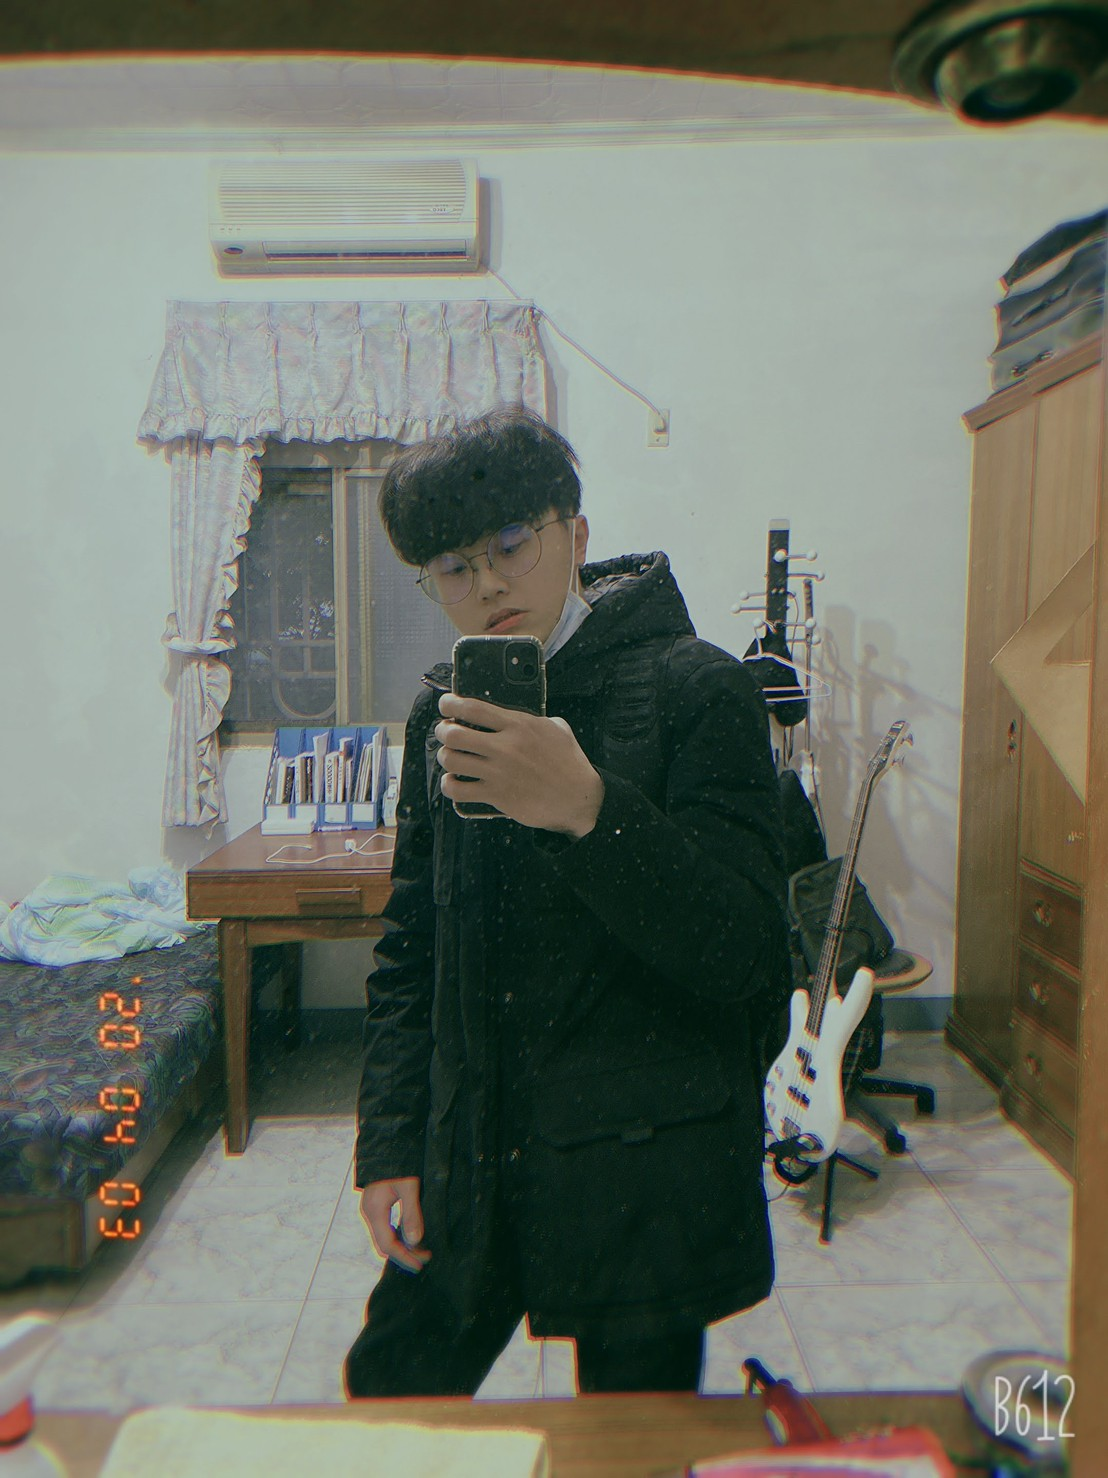people: (378, 419, 721, 1378)
